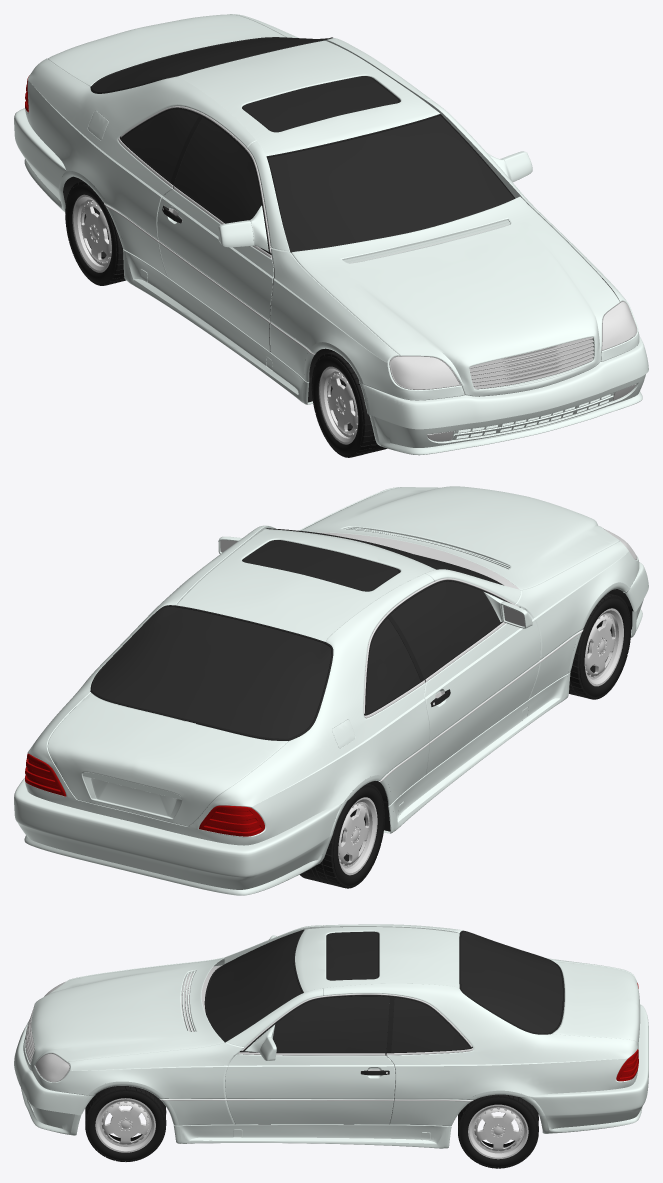
Rendered from car.glb.
3 views of the same model, one above another, from view 1: azimuth 30°, elevation 25°; view 2: azimuth 150°, elevation 25°; view 3: azimuth 270°, elevation 25° (orthographic). The views are drawn at different scales.
Visible parts, largest first — view 1: MAIN_BODY, WHEEL, WHEEL.001; view 2: MAIN_BODY, WHEEL.001, WHEEL; view 3: MAIN_BODY, WHEEL.002, WHEEL.003.
Part boxes in pixels (<box>): MAIN_BODY: <box>14,14,648,455</box>; WHEEL: <box>311,351,387,457</box>; WHEEL.001: <box>65,181,125,285</box>; MAIN_BODY: <box>14,486,648,895</box>; WHEEL.001: <box>300,783,384,888</box>; WHEEL: <box>569,593,631,699</box>; MAIN_BODY: <box>14,924,648,1148</box>; WHEEL.002: <box>85,1086,166,1161</box>; WHEEL.003: <box>458,1094,538,1168</box>.
Bounding box in the file's own units: 0.6525 × 0.4424 × 1.53.
